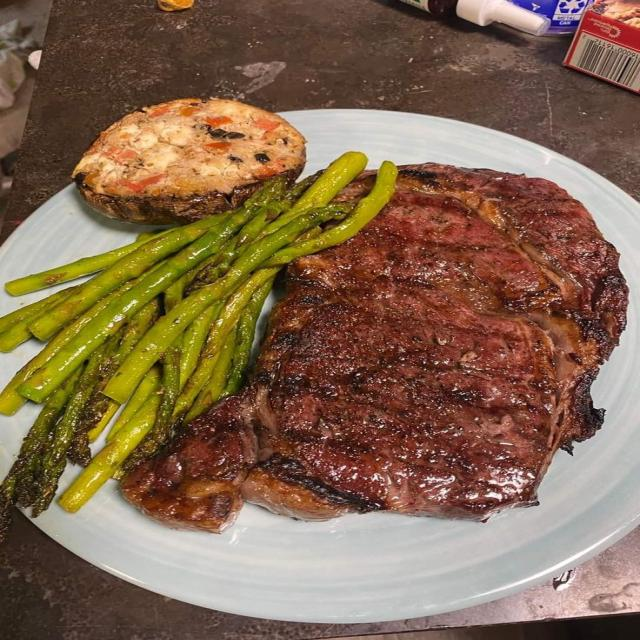asparagus: (20, 179, 282, 401), (20, 209, 251, 401), (105, 209, 333, 403), (30, 178, 284, 339), (30, 219, 223, 339), (174, 268, 279, 420), (0, 291, 120, 414), (264, 162, 397, 266), (60, 395, 159, 512), (33, 353, 100, 516), (5, 230, 172, 295), (0, 373, 78, 506), (68, 329, 124, 465), (122, 346, 179, 472), (225, 279, 273, 394), (184, 328, 237, 423), (0, 288, 75, 352), (107, 366, 160, 441), (180, 302, 223, 388)
beef steak: (121, 163, 628, 532)
